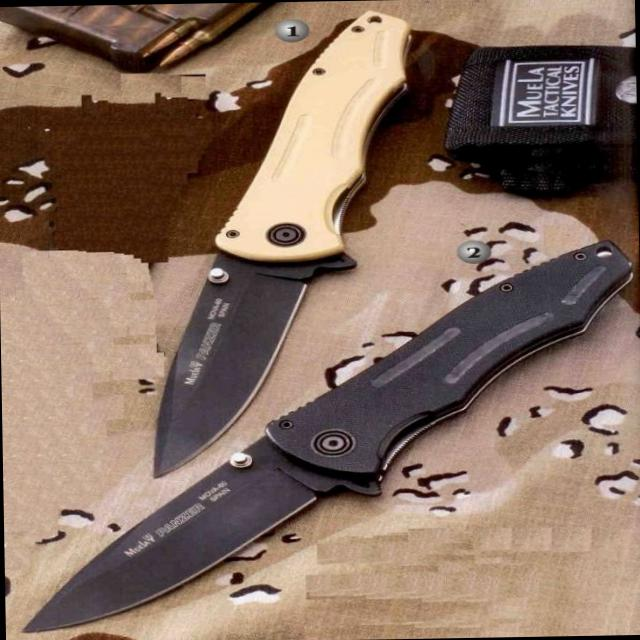knife: (12, 420, 387, 634), (136, 231, 364, 483)
